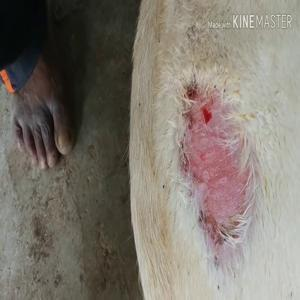skin_lesions: (175, 85, 257, 246)
